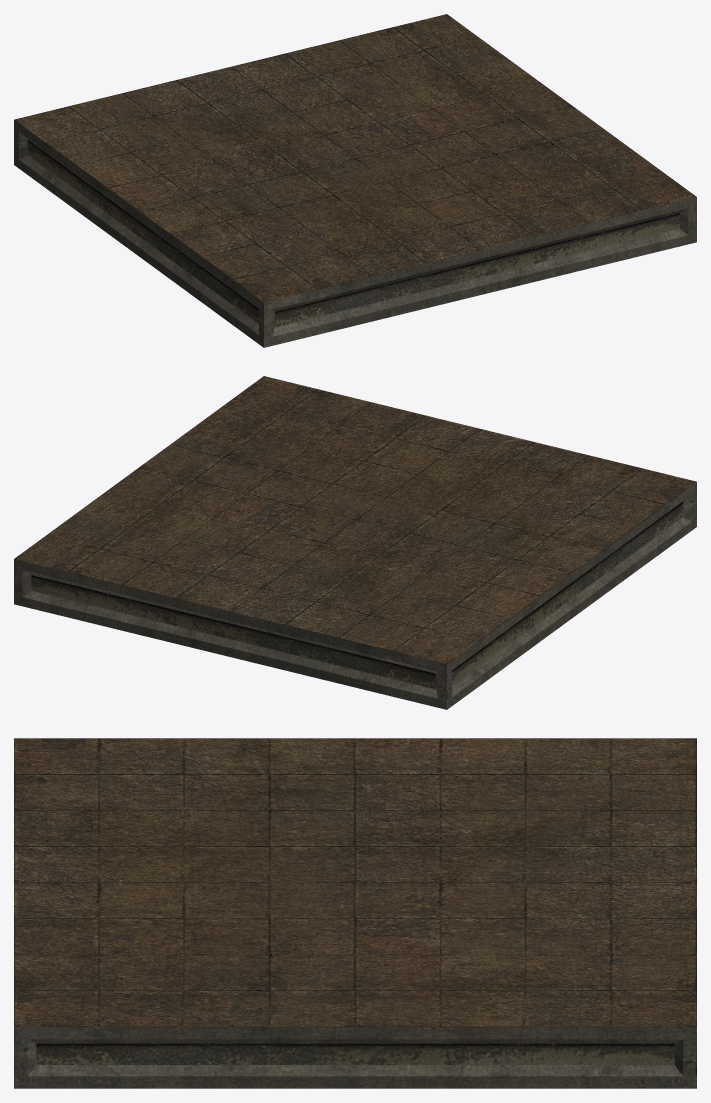
The model's file is floor_ceiling_hr_4.obj.
The picture shows the model from 3 angles, top to bottom: view 1: azimuth 30°, elevation 25°; view 2: azimuth 150°, elevation 25°; view 3: azimuth 270°, elevation 25°; orthographic projection. The views are drawn at different scales.
Parts seen in each view (by area): view 1: floor_ceiling_hr_4; view 2: floor_ceiling_hr_4; view 3: floor_ceiling_hr_4.
Boxes of the visible parts, x1,y1,x2,y2 form: floor_ceiling_hr_4: (14,14,696,347); floor_ceiling_hr_4: (14,376,696,709); floor_ceiling_hr_4: (14,738,696,1088).
Bounding box in the file's own units: 4 × 0.4 × 4.
